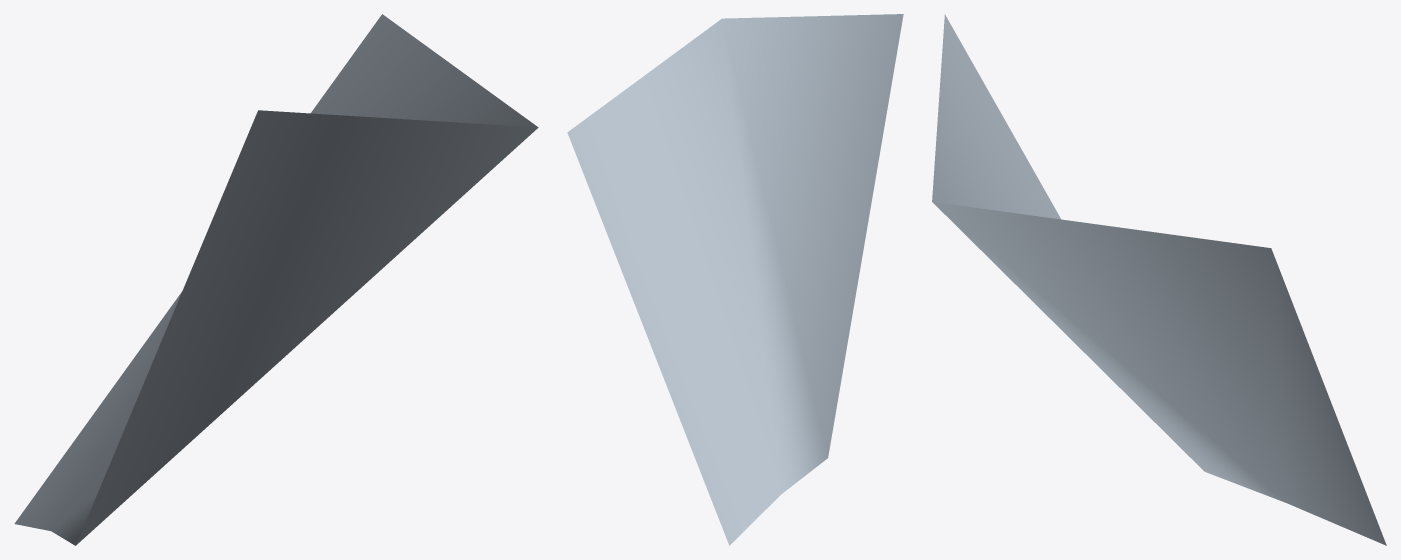
Rendered from conoid-ligament-r.glb.
The picture shows the model from 3 angles, left to right: view 1: azimuth 30°, elevation 25°; view 2: azimuth 150°, elevation 25°; view 3: azimuth 270°, elevation 25°; orthographic projection. The views are drawn at different scales.
Parts seen in each view (by area): view 1: Conoid ligament.r; view 2: Conoid ligament.r; view 3: Conoid ligament.r.
Boxes of the visible parts, x1,y1,x2,y2 form: Conoid ligament.r: (14, 14, 538, 545); Conoid ligament.r: (567, 14, 903, 545); Conoid ligament.r: (932, 14, 1386, 545).
Size of the model in its own units: 0.0134 by 0.0222 by 0.0173.
